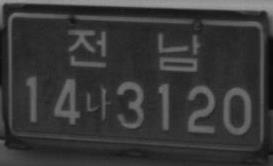0: (221, 86, 252, 137)
1: (152, 81, 178, 132), (20, 74, 44, 124)
2: (186, 83, 216, 135)
3: (116, 79, 145, 130)
4: (52, 77, 82, 125)
나: (84, 84, 111, 122)
전남_D: (67, 27, 202, 73)
